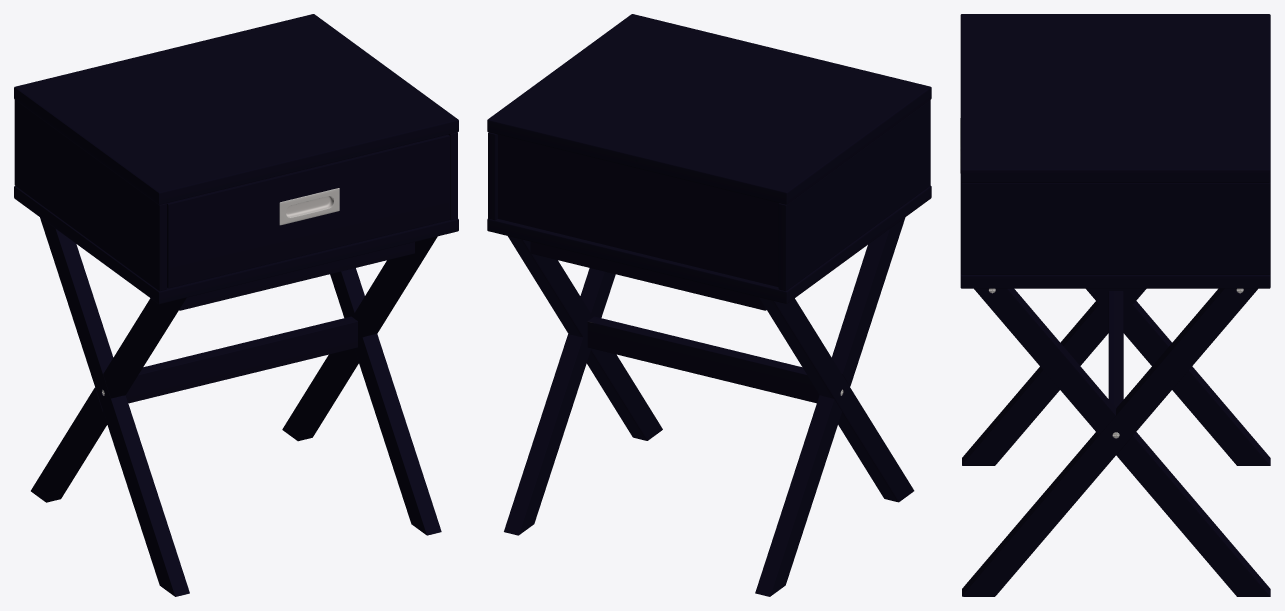
The model's file is table_B07DBF1R71.glb.
The picture shows the model from 3 angles, left to right: view 1: azimuth 30°, elevation 25°; view 2: azimuth 150°, elevation 25°; view 3: azimuth 270°, elevation 25°; orthographic projection. The views are drawn at different scales.
Visible parts, largest first — view 1: RootNode; view 2: RootNode; view 3: RootNode.
Boxes of the visible parts, bbox=[...] form: RootNode: bbox=[14, 14, 458, 596]; RootNode: bbox=[487, 14, 931, 596]; RootNode: bbox=[960, 14, 1270, 596].
Bounding box in the file's own units: 0.4793 × 0.6229 × 0.4021.
Materials: 1 (1 with a texture image).
